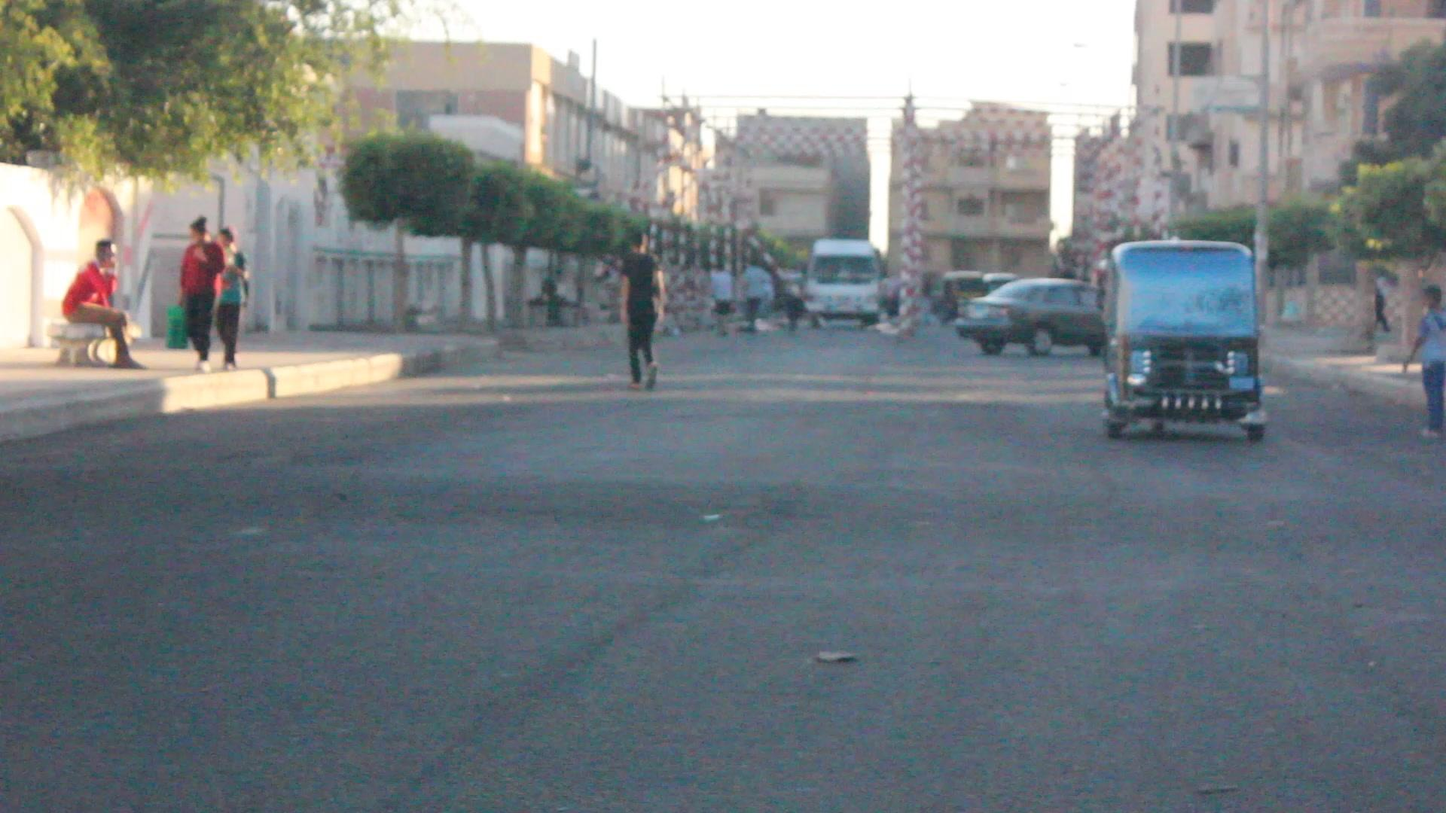Bump: (8, 438, 1429, 547)
